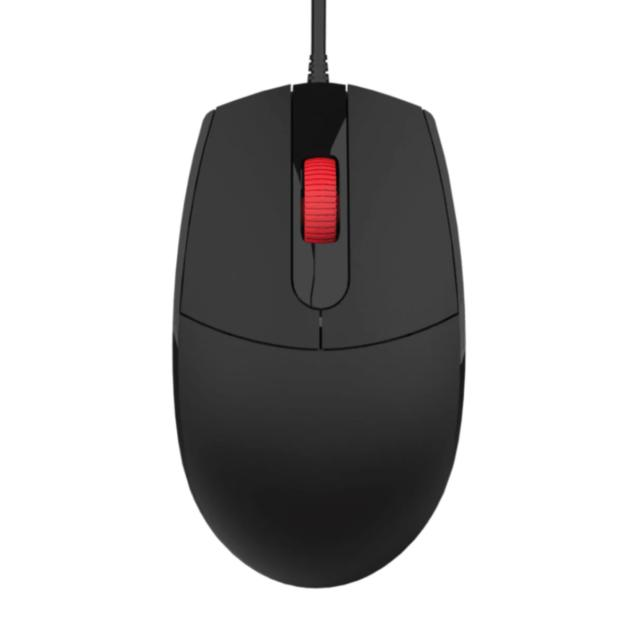souris: (156, 0, 483, 600)
